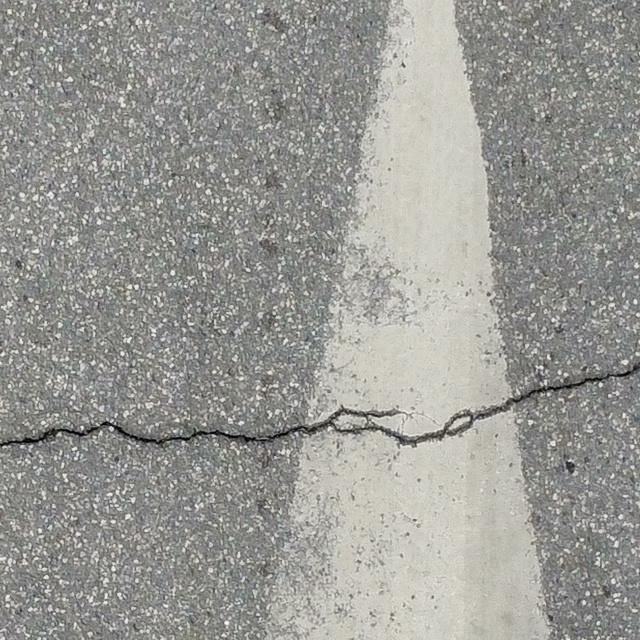TransverseCrack: (1, 360, 640, 447)
